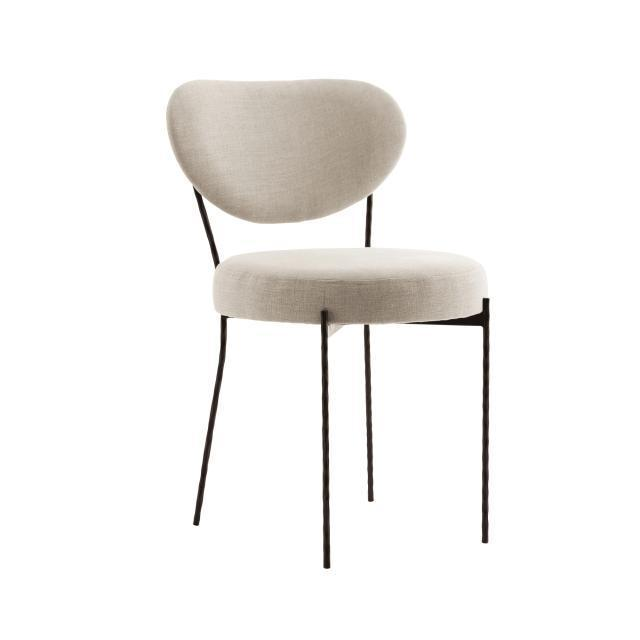chair: (157, 70, 501, 572), (161, 72, 478, 328)
